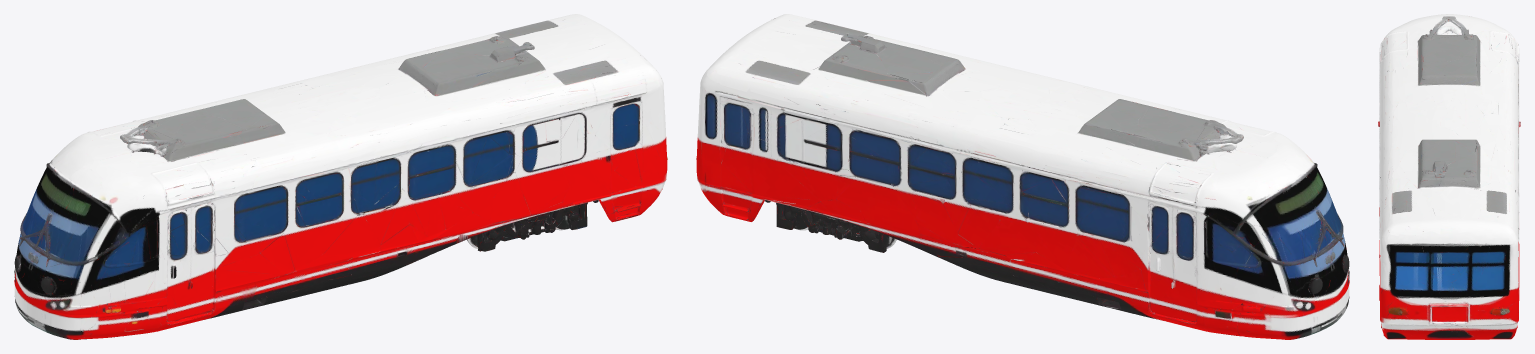
File: rail_car2.glb
3 views of the same model, side by side, from view 1: azimuth 30°, elevation 25°; view 2: azimuth 150°, elevation 25°; view 3: azimuth 270°, elevation 25° (orthographic). The views are drawn at different scales.
Bounding box in the file's own units: 1.89 × 0.5299 × 0.4752.
1 material, 1 textured.
